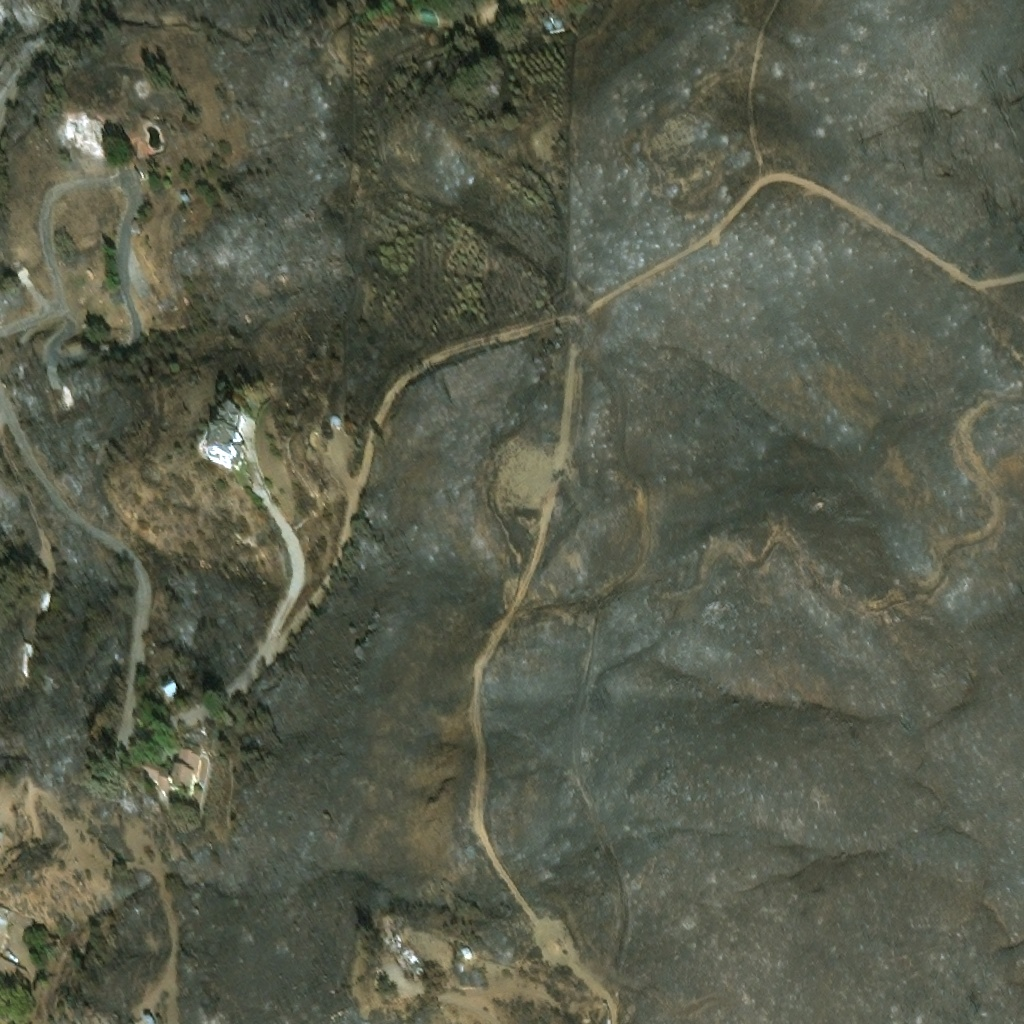0 no-damage: (145, 738, 210, 805), (0, 899, 35, 982), (209, 404, 242, 468)
3 destroyed: (68, 114, 104, 151), (398, 943, 424, 975), (538, 2, 559, 21), (19, 637, 30, 666), (55, 376, 70, 396), (394, 955, 410, 972), (163, 679, 179, 695), (388, 935, 401, 949), (38, 587, 48, 605), (419, 7, 433, 17), (462, 950, 472, 960)
